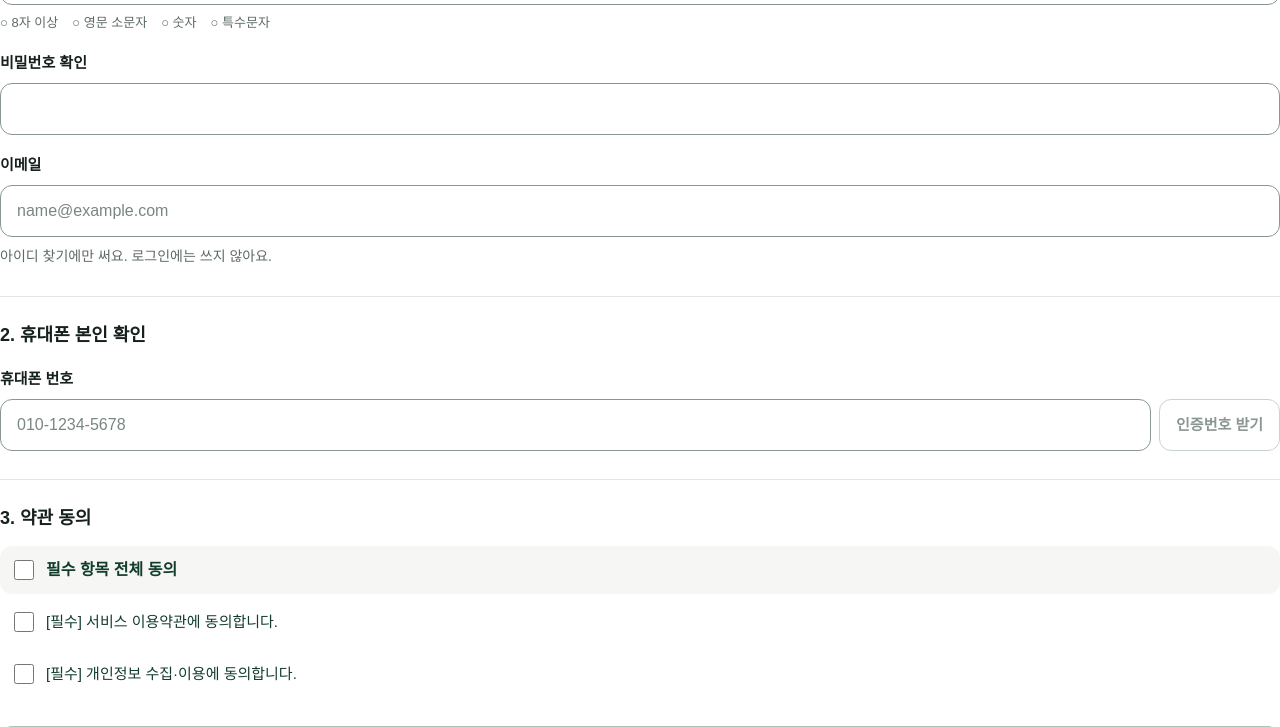
PasswordSignupForm › OTP 오답과 만료 오류를 즉시 읽을 수 있는 alert로 표시한다
(page scrolled)
Step 1. Type "01012345678" into the field labelled "휴대폰 번호" → (576, 425), box top-left (17, 413), bottom-right (1134, 437)
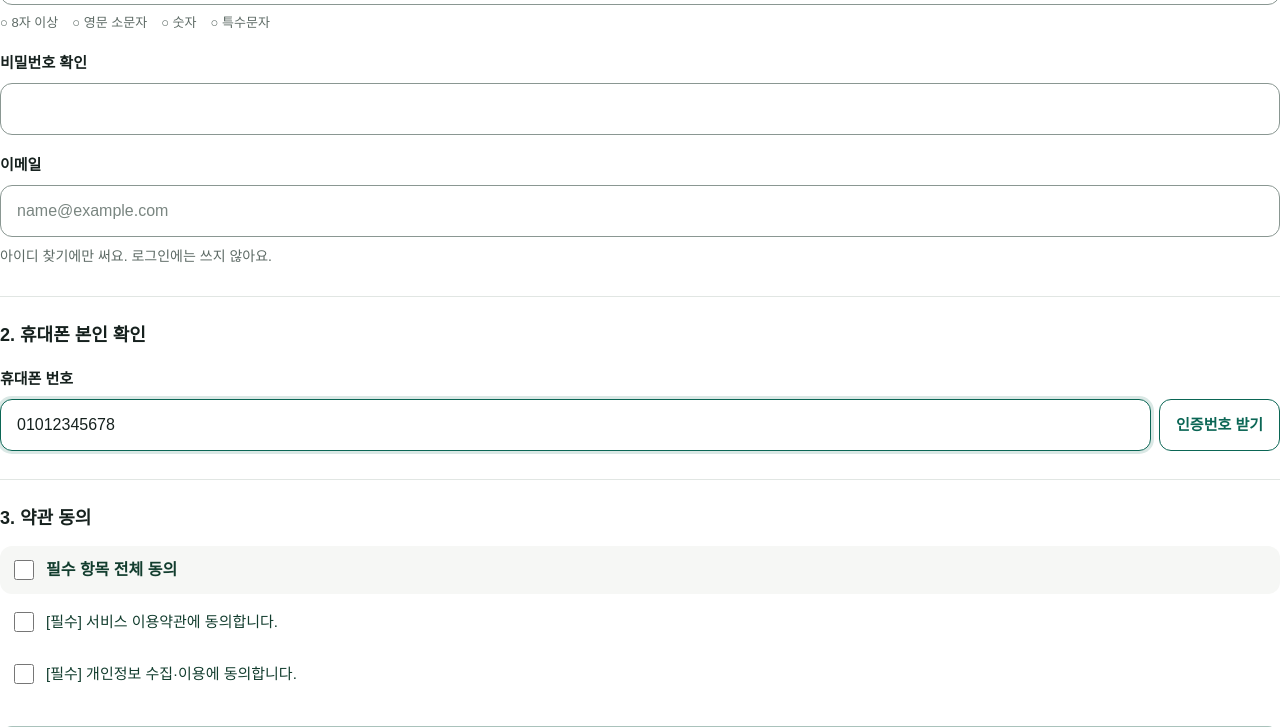
Step 2. Click the button "인증번호 받기" → click(1220, 425), box top-left (1159, 399), bottom-right (1279, 451)
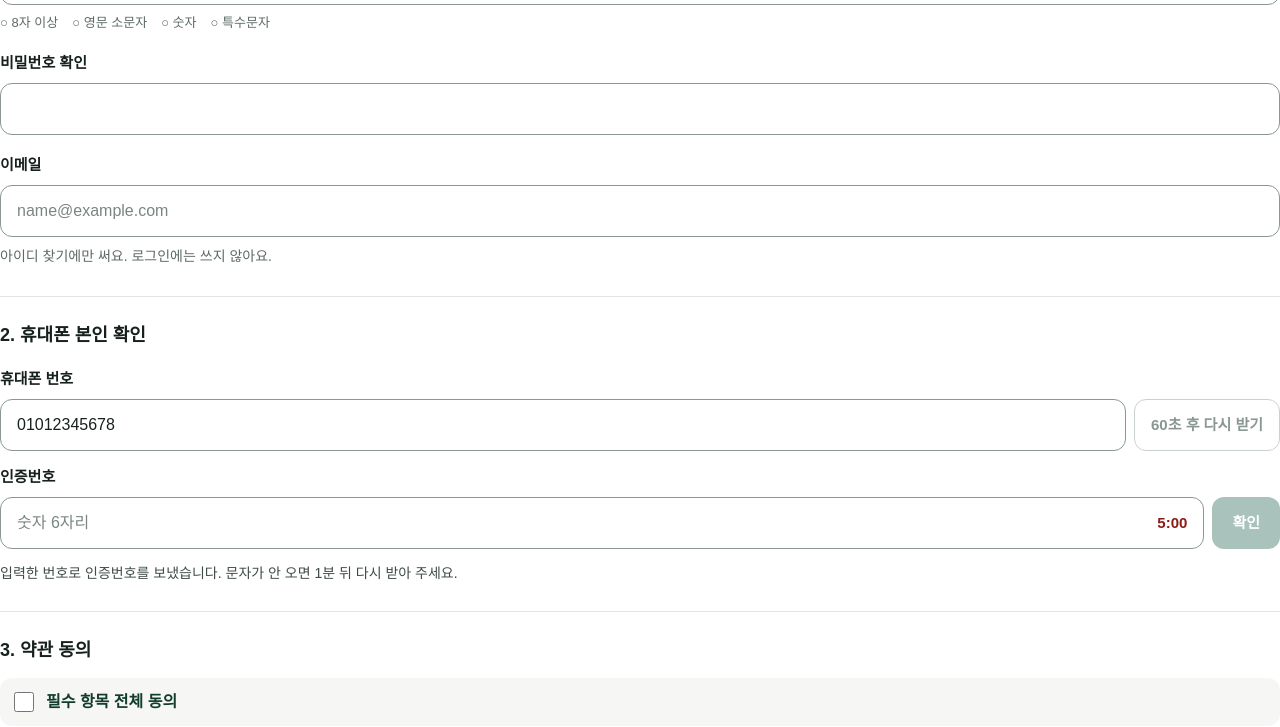
Step 3. Type "123456" into the field labelled "인증번호" → (587, 523), box top-left (17, 511), bottom-right (1157, 535)
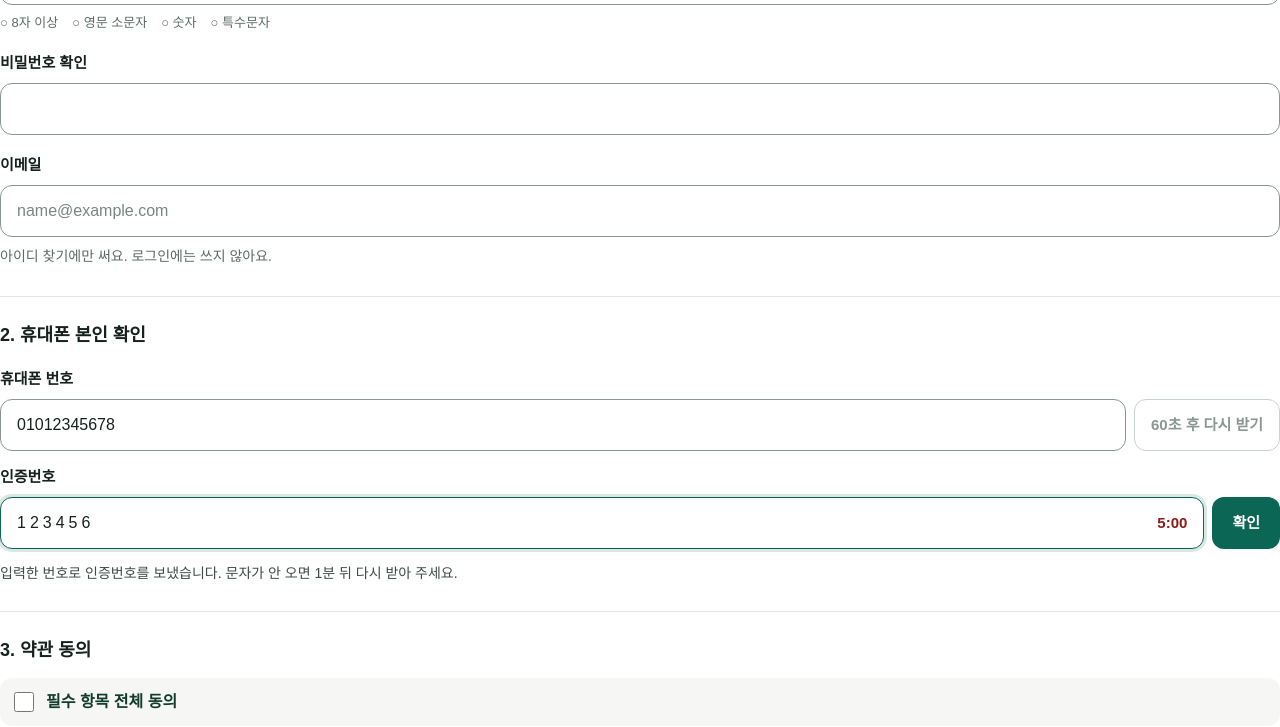
Step 4. Click the button with aria-label "인증 확인" → click(1246, 523), box top-left (1212, 497), bottom-right (1279, 549)
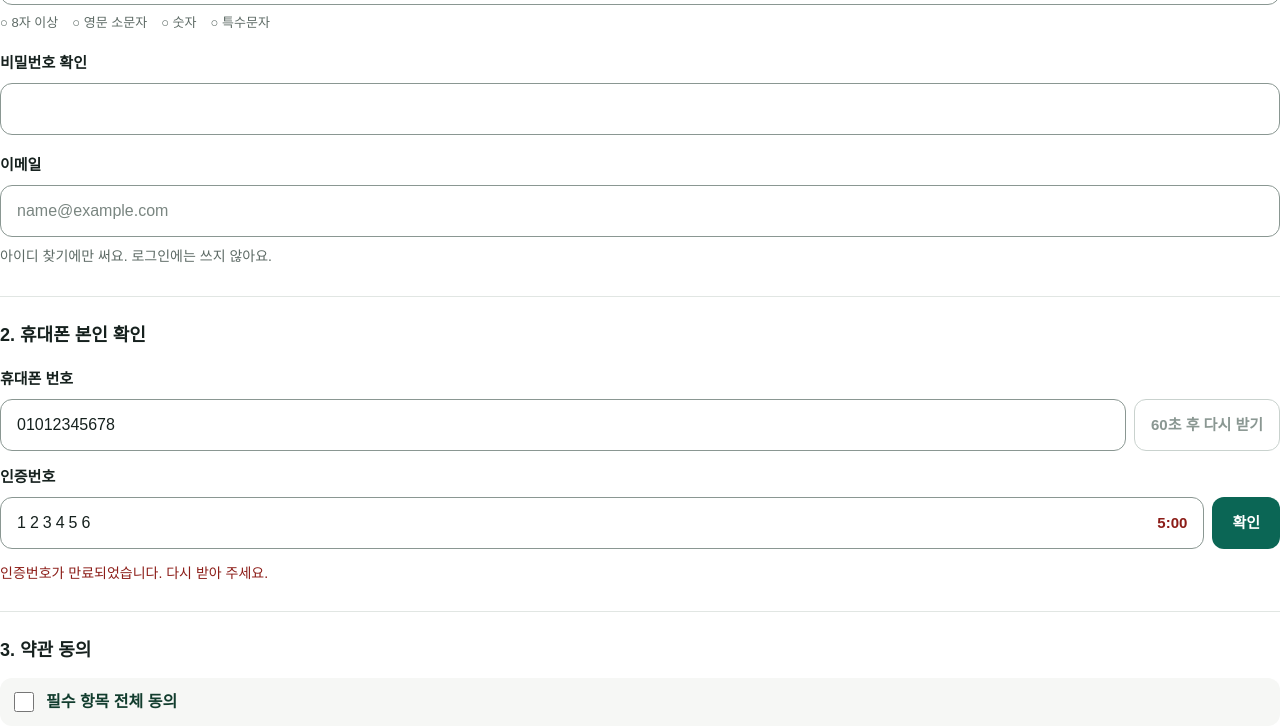
Expected: the message shows "인증번호가 만료되었습니다.", top-left (0, 565), bottom-right (268, 581)
